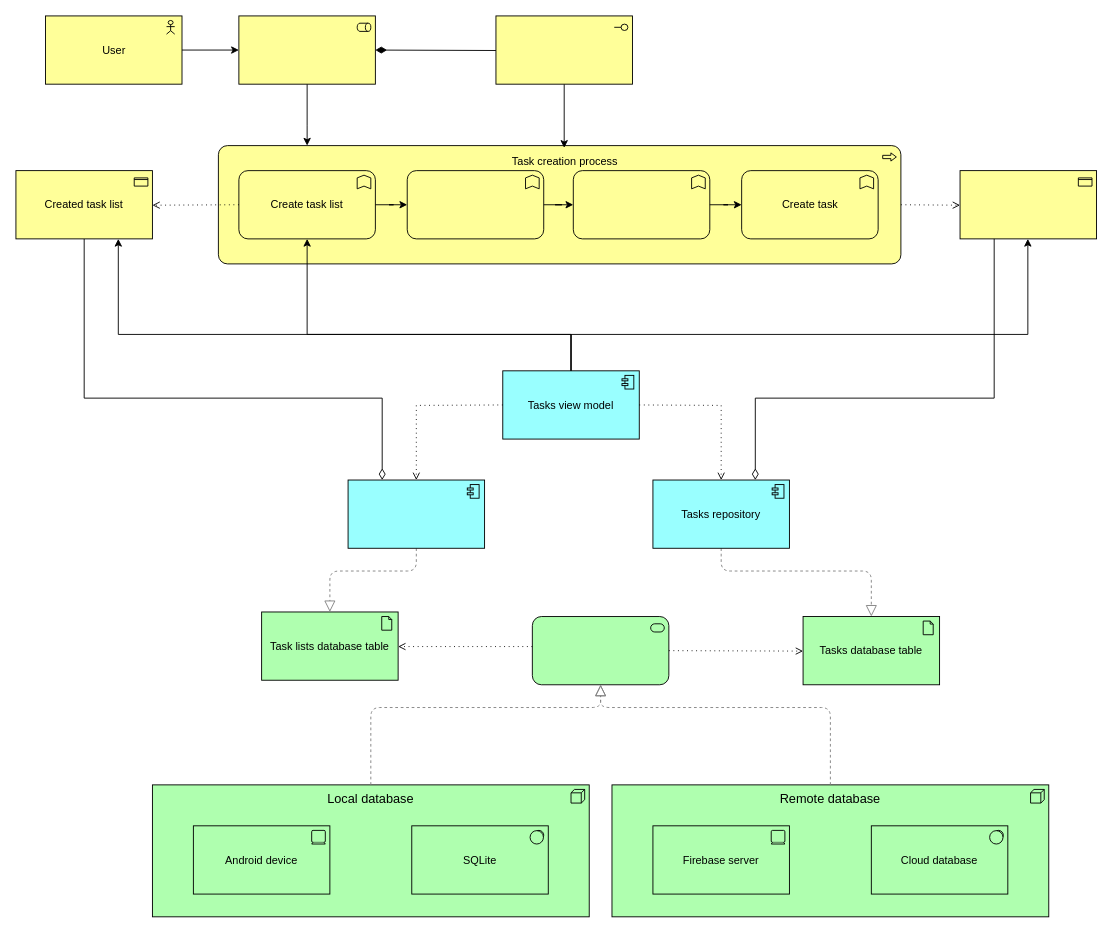
Some shapes in this 1113 by 933 pixel diagram are drawn without their labels. The shapes that lost their labels are listed below. From the top down, each one's centre as x and y in pixels, then its label:
At [306,49]: "App user".
At [563,49]: "Tasks screen".
At [475,204]: "Select task list".
At [641,204]: "Fill in task details".
At [1028,204]: "Created task".
At [416,513]: "Task lists repository".
At [600,650]: "Database management".
